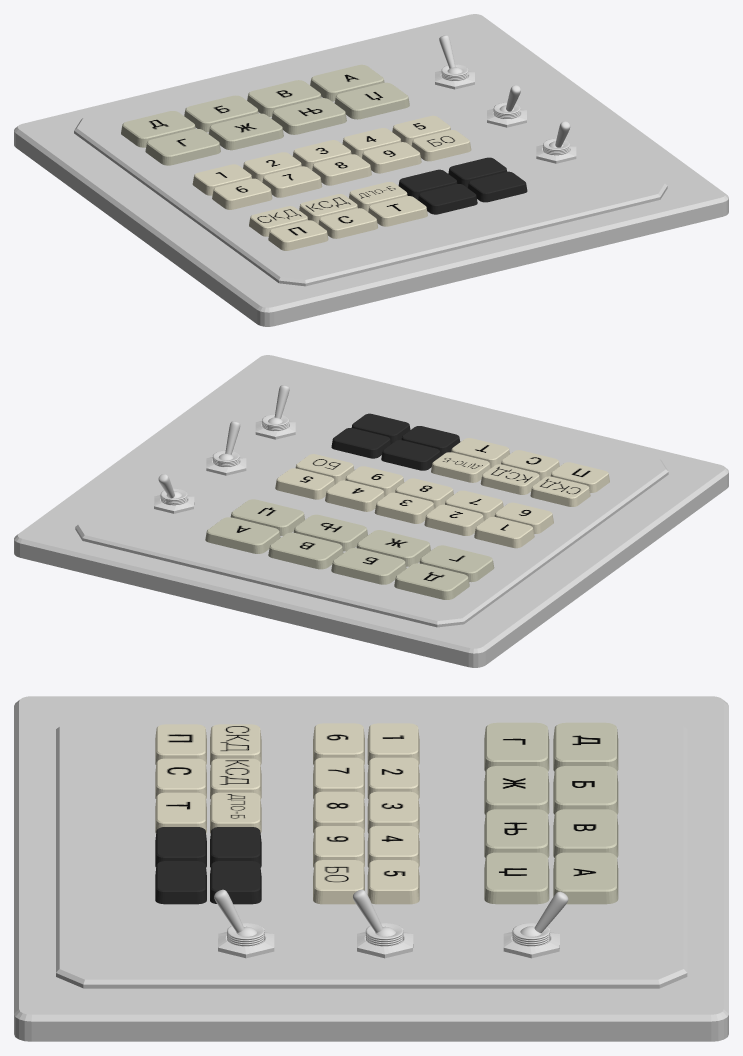
The model's file is panel_square1.fbx.
The picture shows the model from 3 angles, top to bottom: view 1: azimuth 30°, elevation 25°; view 2: azimuth 150°, elevation 25°; view 3: azimuth 270°, elevation 25°; orthographic projection. The views are drawn at different scales.
Parts seen in each view (by area): view 1: panel_plate.001; view 2: panel_plate.001; view 3: panel_plate.001.
Boxes of the visible parts, x1,y1,x2,y2 form: panel_plate.001: (14,14,728,326); panel_plate.001: (14,355,728,667); panel_plate.001: (14,696,728,1041).
Size of the model in its own units: 37.76 by 4.69 by 35.33.
